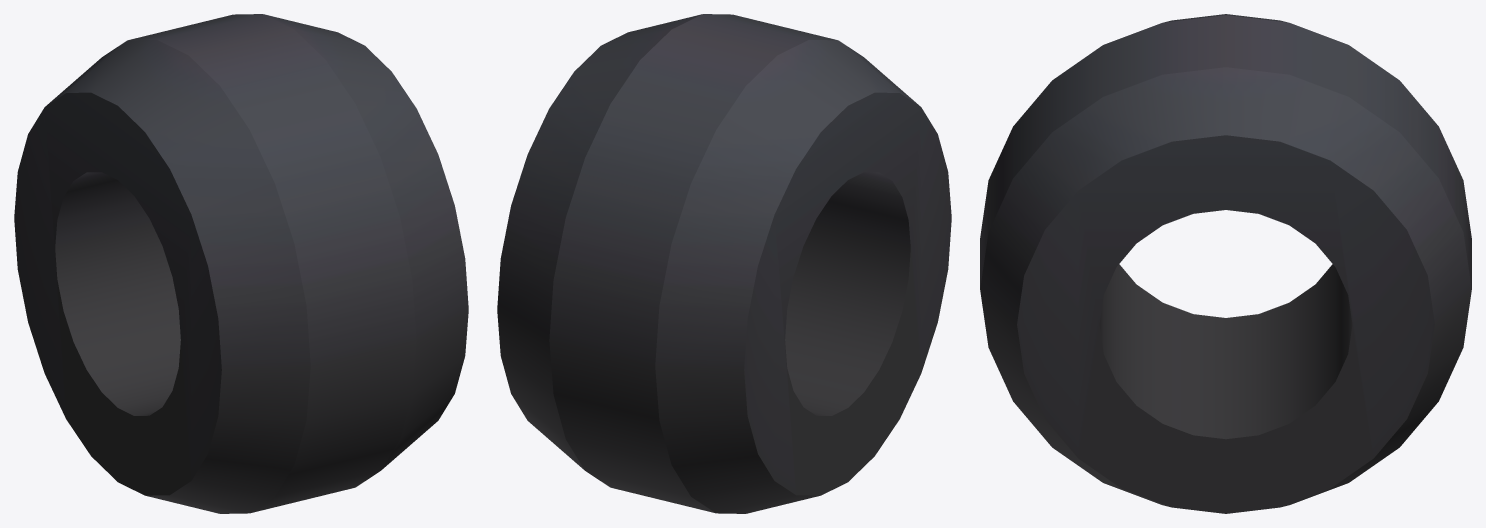
The model's file is debris-tire.glb.
3 renders of one model, left to right at view 1: azimuth 30°, elevation 25°; view 2: azimuth 150°, elevation 25°; view 3: azimuth 270°, elevation 25°, orthographic.
Visible parts, largest first — view 1: debris-tire; view 2: debris-tire; view 3: debris-tire.
Boxes of the visible parts, x1,y1,x2,y2 form: debris-tire: [14, 14, 468, 513]; debris-tire: [497, 14, 951, 513]; debris-tire: [980, 14, 1471, 513].
Size of the model in its own units: 0.35 by 0.6 by 0.6.
1 material, 1 textured.
